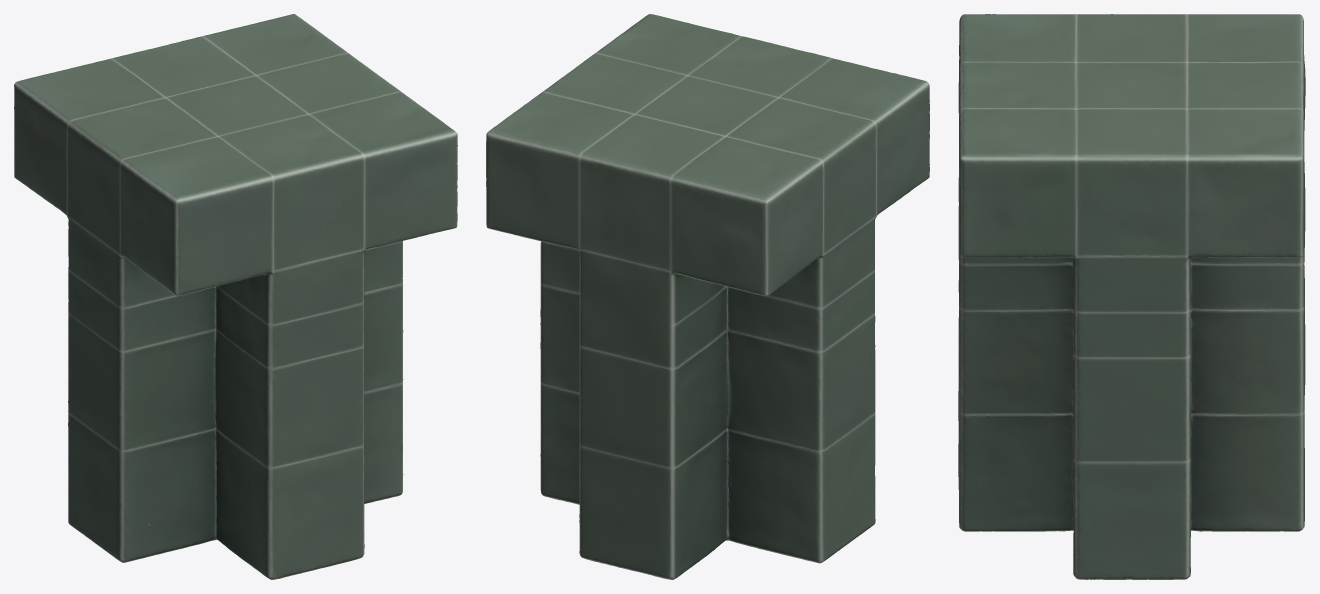
Rendered from contemporary_square_accent_table_side_table_xrf3yu.glb.
3 renders of one model, left to right at view 1: azimuth 30°, elevation 25°; view 2: azimuth 150°, elevation 25°; view 3: azimuth 270°, elevation 25°, orthographic. The views are drawn at different scales.
Parts seen in each view (by area): view 1: world; view 2: world; view 3: world.
Boxes of the visible parts, <box> form: world: <box>14,14,457,579</box>; world: <box>486,14,929,579</box>; world: <box>958,14,1305,579</box>.
Bounding box in the file's own units: 0.7327 × 0.9969 × 0.7366.
1 material, 1 textured.
